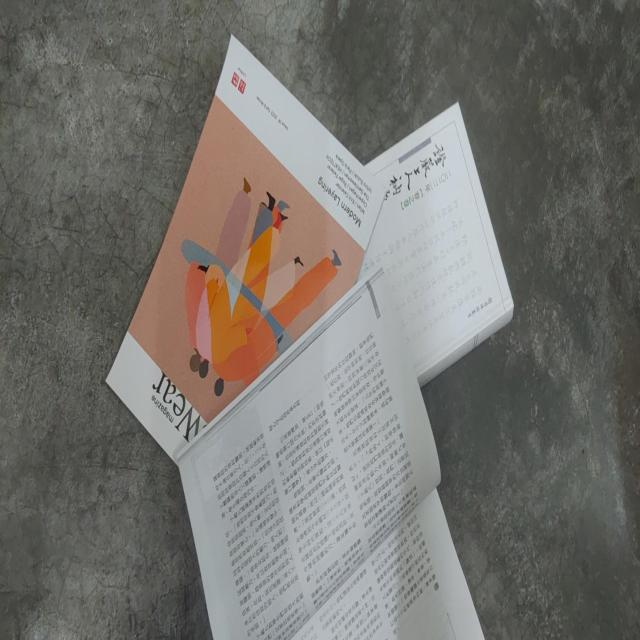paper: (105, 32, 514, 640)
